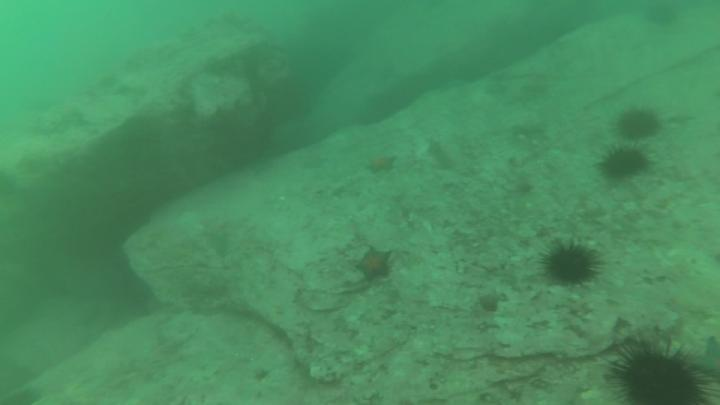echinus: (612, 331, 717, 405), (537, 234, 608, 292), (599, 140, 658, 186), (605, 104, 668, 147)
starfish: (353, 243, 398, 289), (363, 153, 401, 177)
